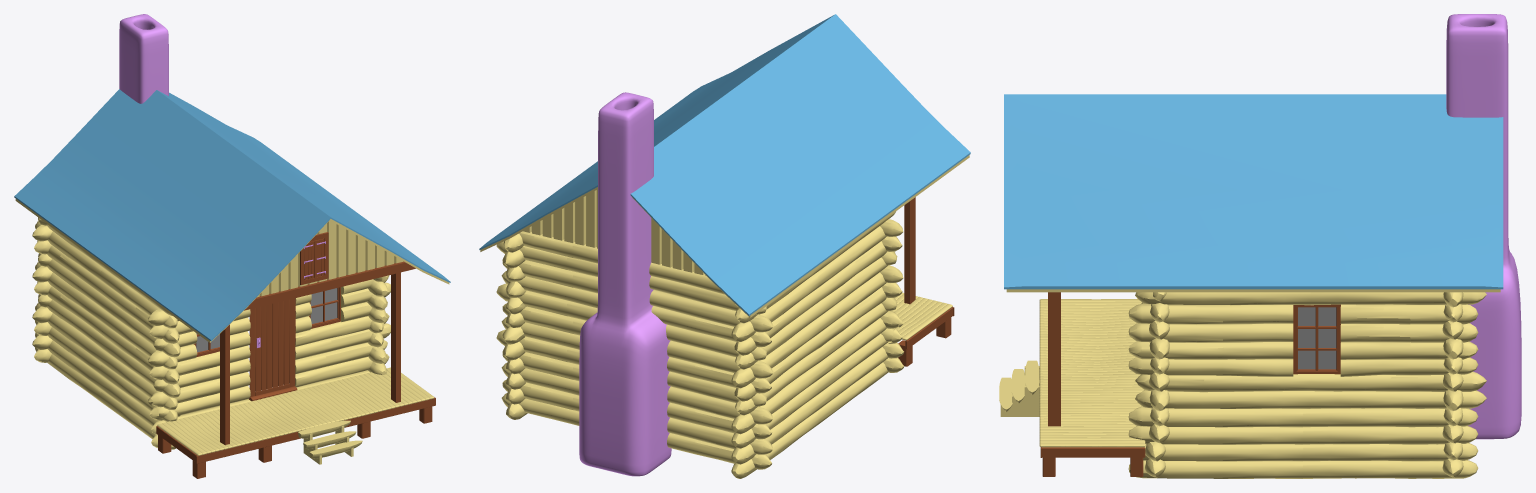
File: muwu1.FBX
3 renders of one model, left to right at view 1: azimuth 30°, elevation 25°; view 2: azimuth 150°, elevation 25°; view 3: azimuth 270°, elevation 25°, orthographic. The views are drawn at different scales.
Parts seen in each view (by area): view 1: HouseCabin_WoodDark (×2), HouseCabin_RoofTiles, HouseCabin_Wood_Beams, HouseCabin_Stone_Stacked, HouseCabin_Glass; view 2: HouseCabin_WoodDark, HouseCabin_RoofTiles, HouseCabin_Stone_Stacked, HouseCabin_Wood_Beams; view 3: HouseCabin_RoofTiles, HouseCabin_WoodDark, HouseCabin_Stone_Stacked, HouseCabin_Wood_Beams, HouseCabin_Glass, HouseCabin_Mullions_Wood.
Boxes of the visible parts, x1=… form: HouseCabin_WoodDark (×2): x1=15, y1=199, x2=449, y2=464; HouseCabin_RoofTiles: x1=14, y1=89, x2=450, y2=341; HouseCabin_Wood_Beams: x1=156, y1=261, x2=435, y2=478; HouseCabin_Stone_Stacked: x1=119, y1=14, x2=168, y2=103; HouseCabin_Glass: x1=196, y1=288, x2=337, y2=352; HouseCabin_WoodDark: x1=480, y1=155, x2=969, y2=478; HouseCabin_RoofTiles: x1=479, y1=14, x2=970, y2=315; HouseCabin_Stone_Stacked: x1=579, y1=92, x2=671, y2=476; HouseCabin_Wood_Beams: x1=898, y1=197, x2=954, y2=366; HouseCabin_RoofTiles: x1=1004, y1=94, x2=1503, y2=289; HouseCabin_WoodDark: x1=999, y1=289, x2=1500, y2=478; HouseCabin_Stone_Stacked: x1=1446, y1=14, x2=1521, y2=439; HouseCabin_Wood_Beams: x1=1040, y1=292, x2=1340, y2=476; HouseCabin_Glass: x1=1298, y1=307, x2=1336, y2=369; HouseCabin_Mullions_Wood: x1=1296, y1=307, x2=1337, y2=371.
Bounding box in the file's own units: 5.46 × 6.75 × 7.96.
